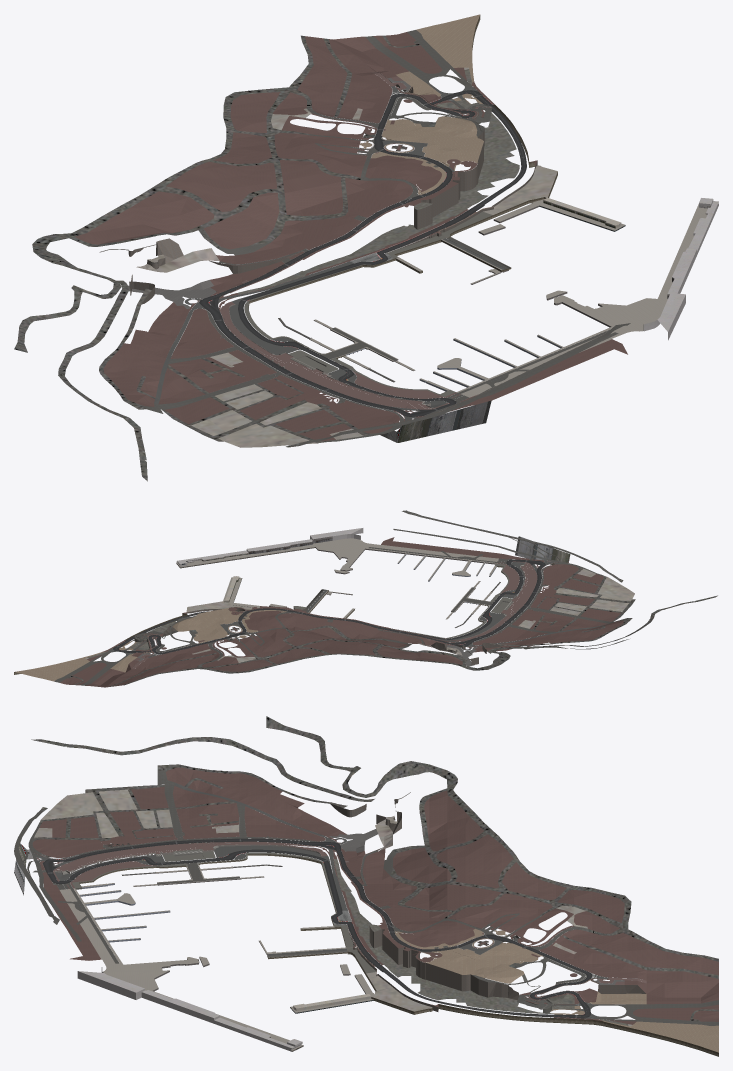
The model's file is surfaces.glb.
3 views of the same model, one above another, from view 1: azimuth 30°, elevation 25°; view 2: azimuth 150°, elevation 25°; view 3: azimuth 270°, elevation 25° (orthographic). The views are drawn at different scales.
Parts seen in each view (by area): view 1: monaco_2022.222, monaco_2022.223, monaco_2022.221, monaco_2022.234, monaco_2022.042, monaco_2022.210, monaco_2022.045, monaco_2022.361, monaco_2022.362, monaco_2022.353, monaco_2022.235, monaco_2022.360 (+6 smaller); view 2: monaco_2022.222, monaco_2022.223, monaco_2022.221, monaco_2022.210, monaco_2022.042, monaco_2022.045, monaco_2022.362, monaco_2022.235, monaco_2022.353, monaco_2022.361, monaco_2022.234, monaco_2022.360 (+3 smaller); view 3: monaco_2022.222, monaco_2022.223, monaco_2022.221, monaco_2022.234, monaco_2022.210, monaco_2022.042, monaco_2022.045, monaco_2022.026, monaco_2022.361, monaco_2022.362, monaco_2022.235, monaco_2022.353 (+7 smaller).
Part boxes in pixels (left/top/right/bottom): monaco_2022.222: left=75, top=32, right=627, bottom=441; monaco_2022.223: left=14, top=30, right=630, bottom=481; monaco_2022.221: left=136, top=67, right=707, bottom=447; monaco_2022.234: left=223, top=69, right=519, bottom=396; monaco_2022.042: left=187, top=70, right=494, bottom=427; monaco_2022.210: left=278, top=197, right=718, bottom=391; monaco_2022.045: left=359, top=60, right=483, bottom=194; monaco_2022.361: left=199, top=94, right=526, bottom=408; monaco_2022.362: left=218, top=72, right=468, bottom=409; monaco_2022.353: left=220, top=90, right=508, bottom=416; monaco_2022.235: left=206, top=72, right=492, bottom=429; monaco_2022.360: left=184, top=86, right=478, bottom=420; monaco_2022.222: left=60, top=537, right=623, bottom=687; monaco_2022.223: left=54, top=510, right=717, bottom=686; monaco_2022.221: left=85, top=538, right=634, bottom=662; monaco_2022.210: left=176, top=528, right=500, bottom=627; monaco_2022.042: left=90, top=554, right=563, bottom=671; monaco_2022.045: left=76, top=608, right=286, bottom=666; monaco_2022.362: left=131, top=561, right=537, bottom=669; monaco_2022.235: left=94, top=548, right=565, bottom=663; monaco_2022.353: left=113, top=559, right=545, bottom=652; monaco_2022.361: left=133, top=573, right=541, bottom=654; monaco_2022.234: left=87, top=563, right=513, bottom=658; monaco_2022.360: left=109, top=557, right=552, bottom=657; monaco_2022.222: left=32, top=767, right=718, bottom=1024; monaco_2022.223: left=14, top=716, right=718, bottom=1025; monaco_2022.221: left=34, top=789, right=635, bottom=1050; monaco_2022.234: left=72, top=841, right=628, bottom=1025; monaco_2022.210: left=77, top=865, right=373, bottom=1051; monaco_2022.042: left=34, top=833, right=646, bottom=1023; monaco_2022.045: left=394, top=929, right=641, bottom=1030; monaco_2022.026: left=339, top=843, right=645, bottom=1000; monaco_2022.361: left=75, top=838, right=592, bottom=1015; monaco_2022.362: left=53, top=841, right=646, bottom=997; monaco_2022.235: left=30, top=833, right=628, bottom=1020; monaco_2022.353: left=42, top=851, right=590, bottom=1018.
Bounding box in the file's own units: 1966 × 133 × 1914.
Materials: 43 (43 with a texture image).
